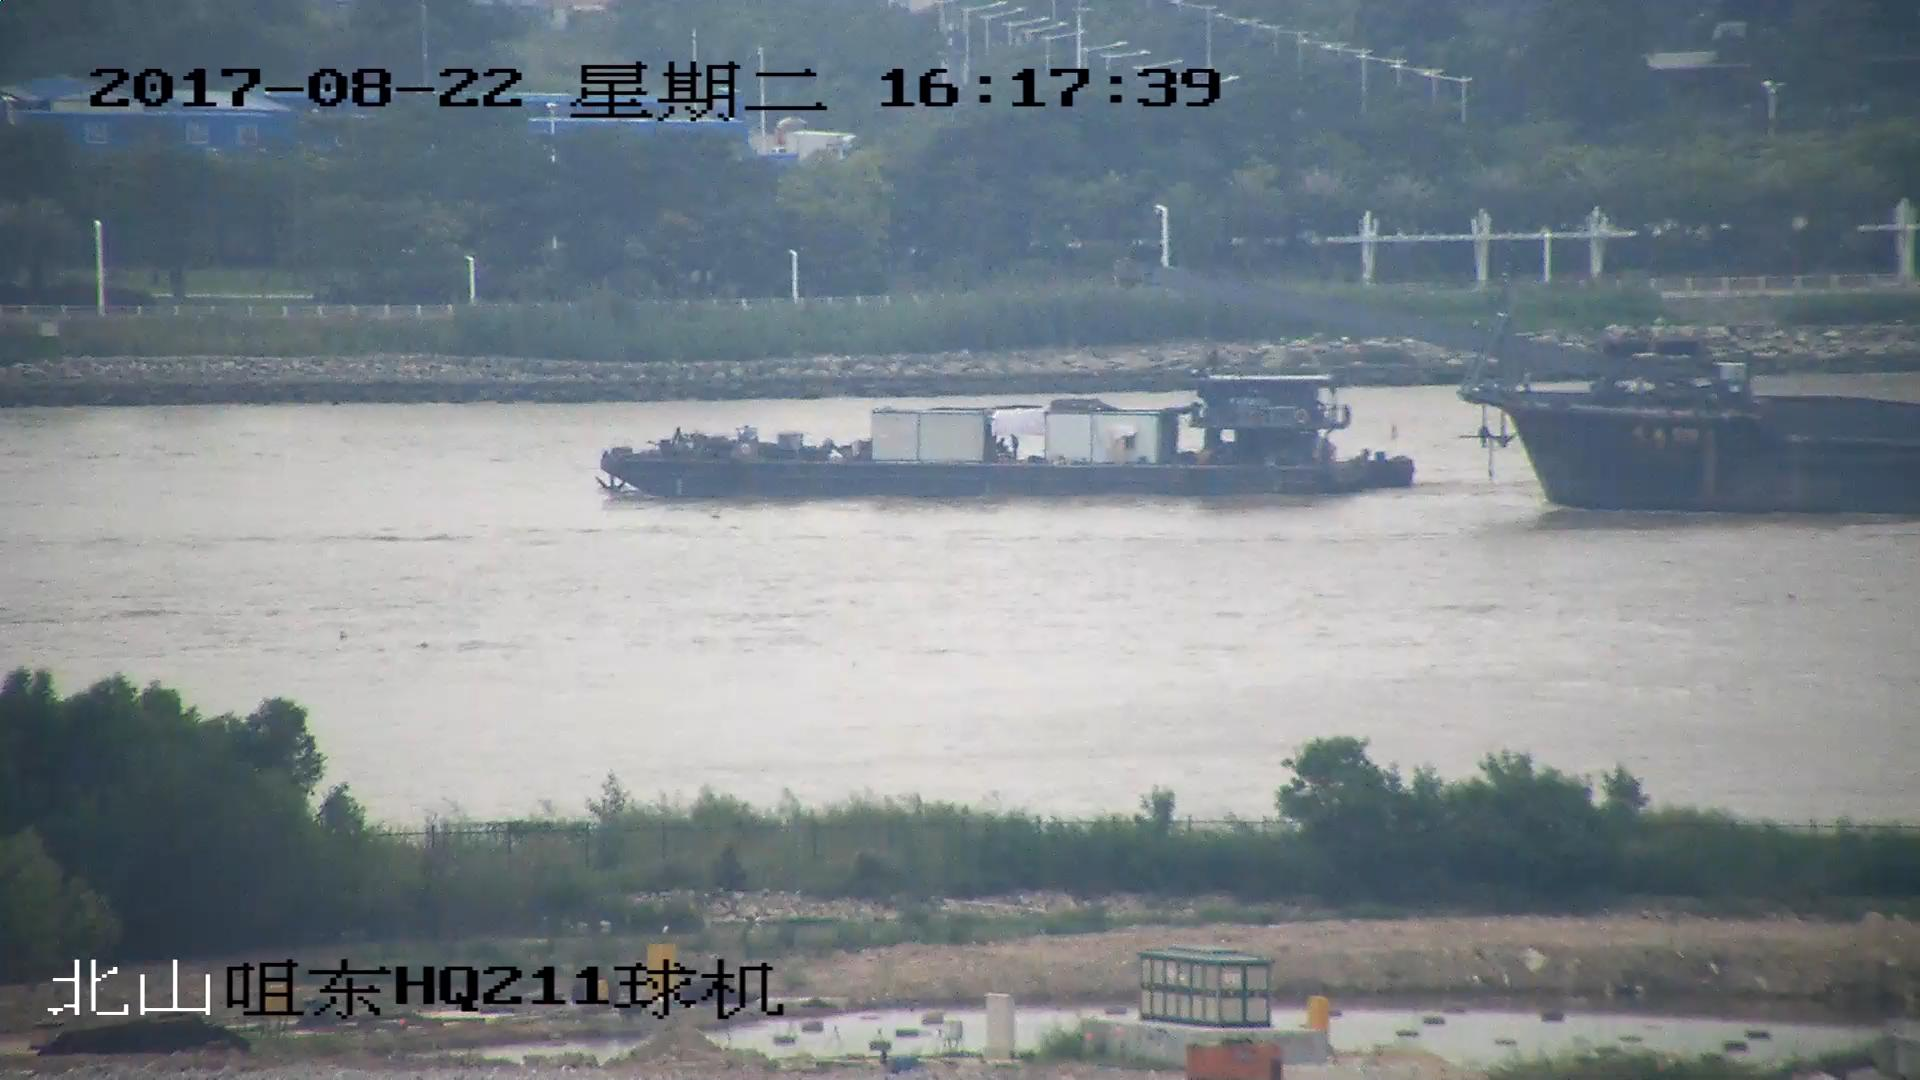bulk cargo carrier: (1131, 265, 1920, 519), (593, 356, 1416, 503)
